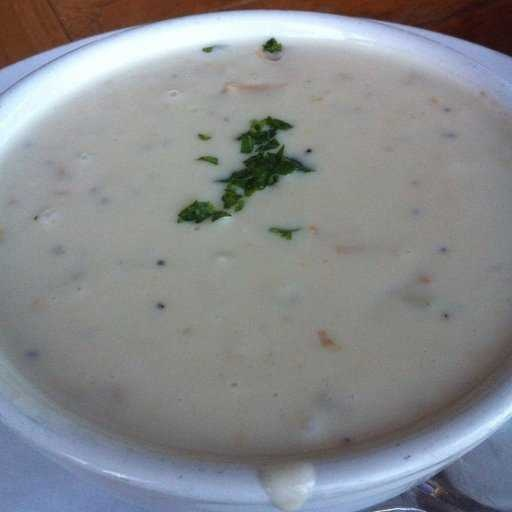soup: (4, 41, 498, 474)
